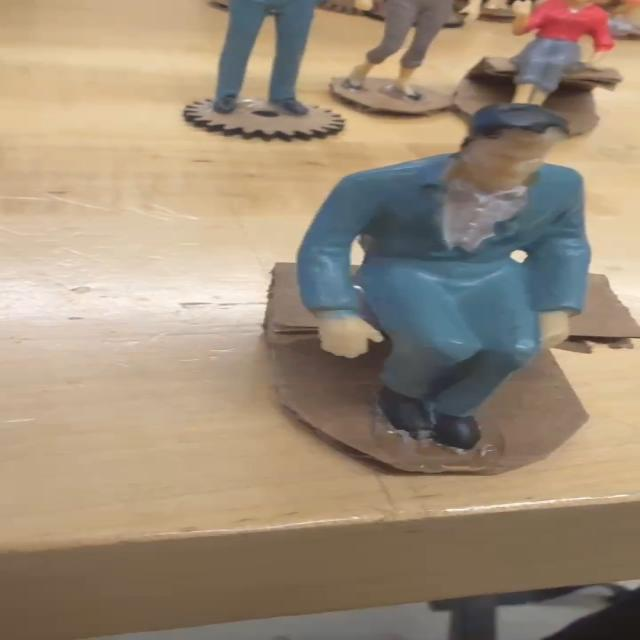Authorized: (227, 90, 640, 523)
